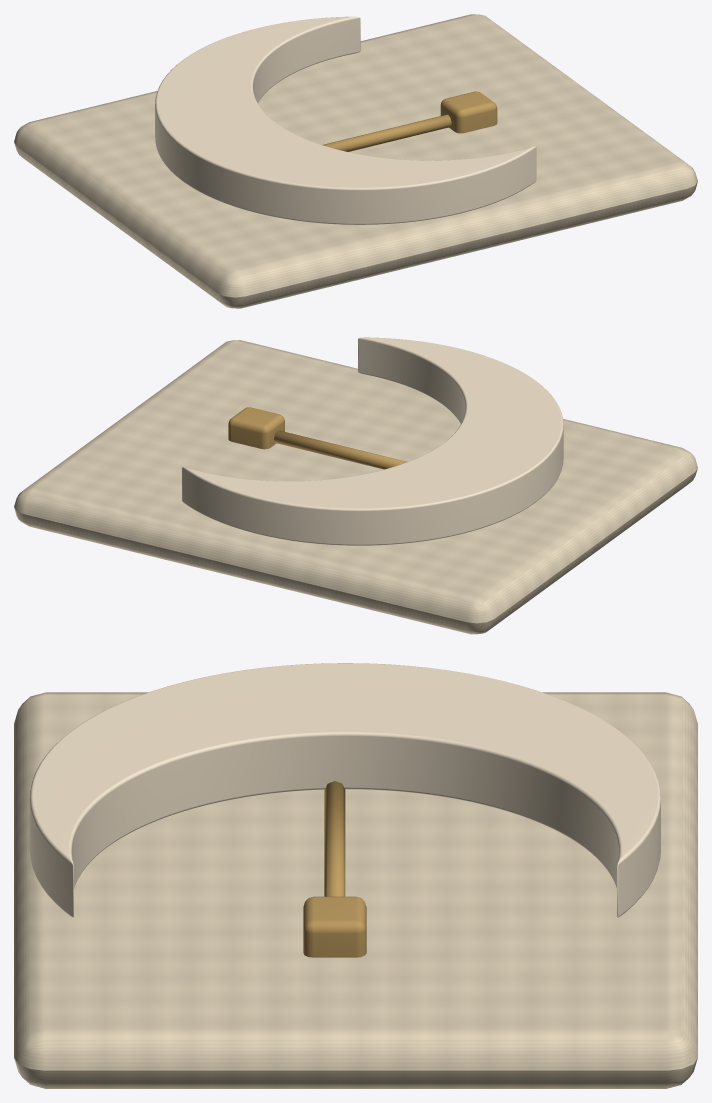
The model's file is gift-15.3f37a688d2d8-IntyqWA7.glb.
3 views of the same model, one above another, from view 1: azimuth 30°, elevation 25°; view 2: azimuth 150°, elevation 25°; view 3: azimuth 270°, elevation 25° (orthographic). The views are drawn at different scales.
Visible parts, largest first — view 1: Folded_linen_pin_pad, Thick_ceramic_crescent, PART_PIVOT_moon_MAT_soft_brass; view 2: Folded_linen_pin_pad, Thick_ceramic_crescent, PART_PIVOT_moon_MAT_soft_brass; view 3: Folded_linen_pin_pad, Thick_ceramic_crescent, PART_PIVOT_moon_MAT_soft_brass.
Part boxes in pixels (<box>): Folded_linen_pin_pad: <box>14,14,697,308</box>; Thick_ceramic_crescent: <box>155,16,536,224</box>; PART_PIVOT_moon_MAT_soft_brass: <box>322,91,497,151</box>; Folded_linen_pin_pad: <box>14,340,697,634</box>; Thick_ceramic_crescent: <box>182,337,563,545</box>; PART_PIVOT_moon_MAT_soft_brass: <box>228,407,407,469</box>; Folded_linen_pin_pad: <box>14,692,697,1088</box>; Thick_ceramic_crescent: <box>29,663,660,917</box>; PART_PIVOT_moon_MAT_soft_brass: <box>303,781,366,957</box>.
Bounding box in the file's own units: 0.081 × 0.013 × 0.065.
Materials: 3 (1 with a texture image).
